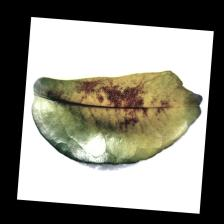canker: (53, 74, 174, 130)
